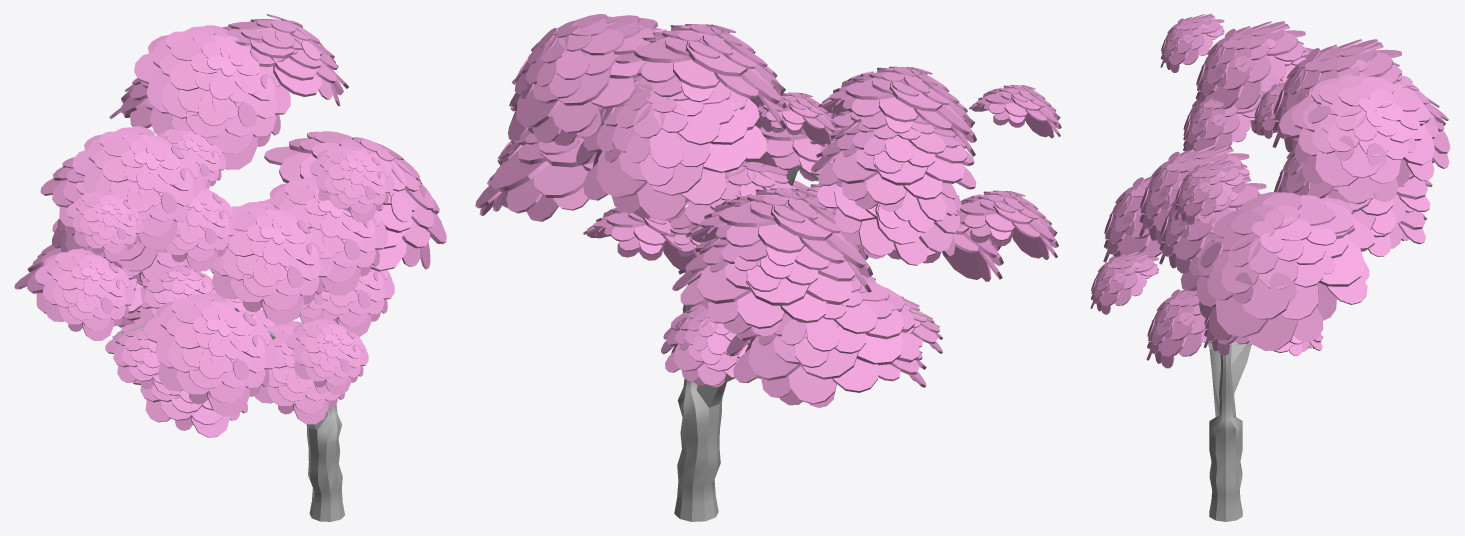
Rendered from sakura.glb.
3 views of the same model, side by side, from view 1: azimuth 30°, elevation 25°; view 2: azimuth 150°, elevation 25°; view 3: azimuth 270°, elevation 25° (orthographic). The views are drawn at different scales.
Visible parts, largest first — view 1: sakura_tree:sakura_tree:sakura_tree:pCube77, sakura_tree:pCube79, sakura_tree:pCube72, sakura_tree:pCube66, sakura_tree:sakura_tree:sakura_tree:pCube81, sakura_tree:pCube76, sakura_tree:pCube82, sakura_tree:sakura_tree:sakura_tree:pCube80, sakura_tree:pCube80, sakura_tree:pCube73, sakura_tree:pCube67, sakura_tree:pCube69 (+13 smaller); view 2: sakura_tree:sakura_tree:sakura_tree:pCube79, sakura_tree:sakura_tree:sakura_tree:pCube78, sakura_tree:sakura_tree:sakura_tree:pCube80, sakura_tree:pCube78, sakura_tree:pCube74, sakura_tree:pCube77, sakura_tree:sakura_tree:sakura_tree:pCube77, sakura_tree:pCube75, sakura_tree:pCube66, sakura_tree:sakura_tree:sakura_tree:pCube81, sakura_tree:sakura_tree:sakura_tree:than_cay2, sakura_tree:pCube76 (+9 smaller); view 3: sakura_tree:sakura_tree:sakura_tree:pCube81, sakura_tree:sakura_tree:sakura_tree:pCube80, sakura_tree:pCube66, sakura_tree:sakura_tree:sakura_tree:than_cay2, sakura_tree:sakura_tree:sakura_tree:pCube77, sakura_tree:pCube72, sakura_tree:pCube81, sakura_tree:pCube82, sakura_tree:pCube80, sakura_tree:pCube69, sakura_tree:pCube73, sakura_tree:pCube79 (+8 smaller).
Part boxes in pixels (x1,y1,x2,y2): sakura_tree:sakura_tree:sakura_tree:pCube77: (134,25,290,169); sakura_tree:pCube79: (144,293,277,416); sakura_tree:pCube72: (211,200,331,324); sakura_tree:pCube66: (72,126,205,249); sakura_tree:sakura_tree:sakura_tree:pCube81: (264,131,446,271); sakura_tree:pCube76: (35,248,135,340); sakura_tree:pCube82: (265,176,387,295); sakura_tree:sakura_tree:sakura_tree:pCube80: (222,14,348,106); sakura_tree:pCube80: (309,144,393,222); sakura_tree:pCube73: (286,318,368,394); sakura_tree:pCube67: (66,190,143,261); sakura_tree:pCube69: (154,187,234,271); sakura_tree:sakura_tree:sakura_tree:pCube79: (576,76,766,220); sakura_tree:sakura_tree:sakura_tree:pCube78: (726,278,919,407); sakura_tree:sakura_tree:sakura_tree:pCube80: (508,14,661,145); sakura_tree:pCube78: (672,237,860,336); sakura_tree:pCube74: (811,116,976,211); sakura_tree:pCube77: (685,188,872,292); sakura_tree:sakura_tree:sakura_tree:pCube77: (615,24,786,131); sakura_tree:pCube75: (811,145,961,265); sakura_tree:pCube66: (818,66,976,156); sakura_tree:sakura_tree:sakura_tree:pCube81: (475,130,596,221); sakura_tree:sakura_tree:sakura_tree:than_cay2: (674,138,928,521); sakura_tree:pCube76: (954,190,1058,259); sakura_tree:sakura_tree:sakura_tree:pCube81: (1180,192,1374,350); sakura_tree:sakura_tree:sakura_tree:pCube80: (1279,73,1438,202); sakura_tree:pCube66: (1196,21,1305,109); sakura_tree:sakura_tree:sakura_tree:than_cay2: (1208,153,1251,521); sakura_tree:sakura_tree:sakura_tree:pCube77: (1272,39,1402,154); sakura_tree:pCube72: (1139,144,1249,244); sakura_tree:pCube81: (1146,289,1211,368); sakura_tree:pCube82: (1159,174,1266,273); sakura_tree:pCube80: (1175,160,1244,224); sakura_tree:pCube69: (1183,95,1259,151); sakura_tree:pCube73: (1090,251,1158,314); sakura_tree:pCube79: (1103,176,1162,262).
Size of the model in its own units: 1.16 by 1.17 by 0.874.
